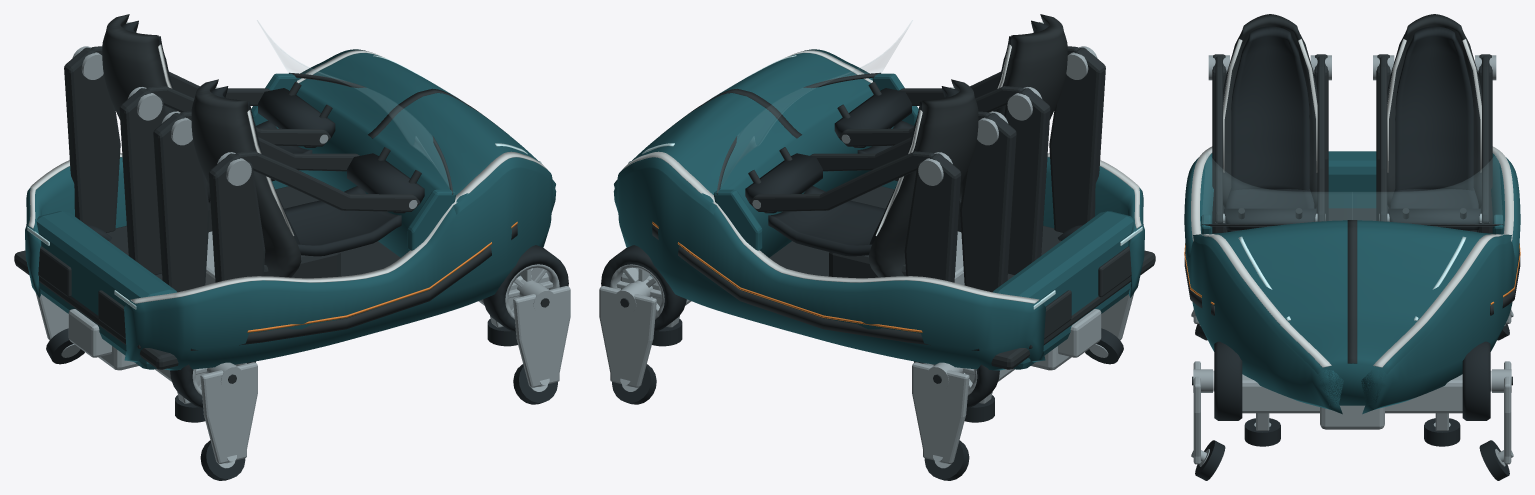
The model's file is SM_LeadCar.fbx.
3 views of the same model, side by side, from view 1: azimuth 30°, elevation 25°; view 2: azimuth 150°, elevation 25°; view 3: azimuth 270°, elevation 25° (orthographic). The views are drawn at different scales.
Visible parts, largest first — view 1: SM_LeadCar_UEExport; view 2: SM_LeadCar_UEExport; view 3: SM_LeadCar_UEExport.
Part boxes in pixels (<box>): SM_LeadCar_UEExport: <box>14,14,570,480</box>; SM_LeadCar_UEExport: <box>599,14,1155,480</box>; SM_LeadCar_UEExport: <box>1184,14,1520,480</box>.
Size of the model in its own units: 254 by 176 by 190.
